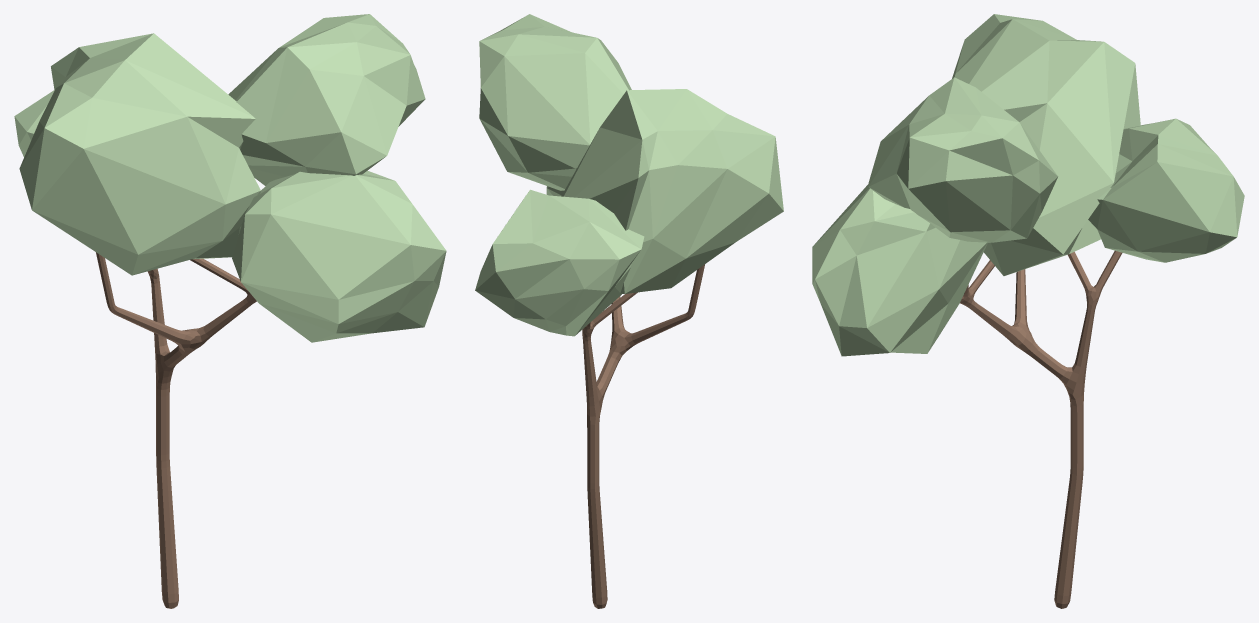
The model's file is Tree.fbx.
3 views of the same model, side by side, from view 1: azimuth 30°, elevation 25°; view 2: azimuth 150°, elevation 25°; view 3: azimuth 270°, elevation 25° (orthographic). The views are drawn at different scales.
Visible parts, largest first — view 1: Leaves, Branches; view 2: Leaves, Branches; view 3: Leaves, Branches.
Part boxes in pixels (<box>): Leaves: <box>14,14,446,342</box>; Branches: <box>96,252,256,608</box>; Leaves: <box>475,14,783,336</box>; Branches: <box>582,264,704,608</box>; Leaves: <box>812,14,1244,356</box>; Branches: <box>960,250,1122,608</box>.
Bounding box in the file's own units: 7.64 × 12.01 × 8.42.
